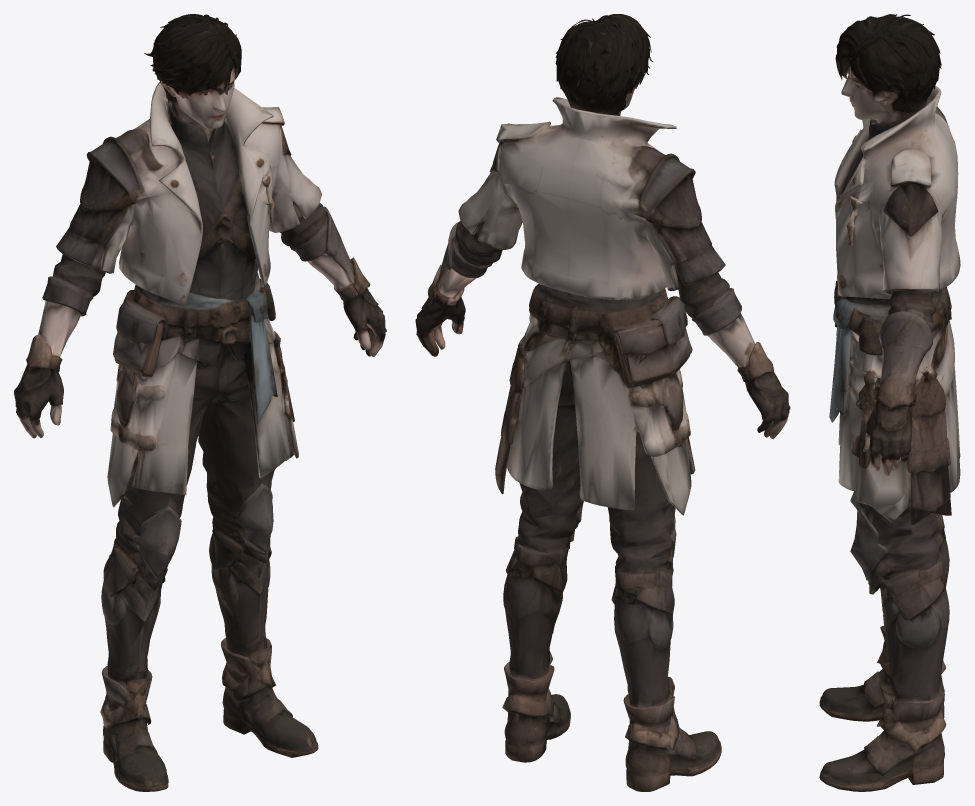
Rendered from unspecialized.glb.
3 views of the same model, side by side, from view 1: azimuth 30°, elevation 25°; view 2: azimuth 150°, elevation 25°; view 3: azimuth 270°, elevation 25° (orthographic).
Visible parts, largest first — view 1: material; view 2: material; view 3: material.
Part boxes in pixels (left/top/right/bottom): material: left=14, top=14, right=386, bottom=791; material: left=415, top=14, right=790, bottom=791; material: left=819, top=14, right=960, bottom=791.
Size of the model in its own units: 0.9128 by 1.76 by 0.3086.
Materials: 1 (1 with a texture image).
